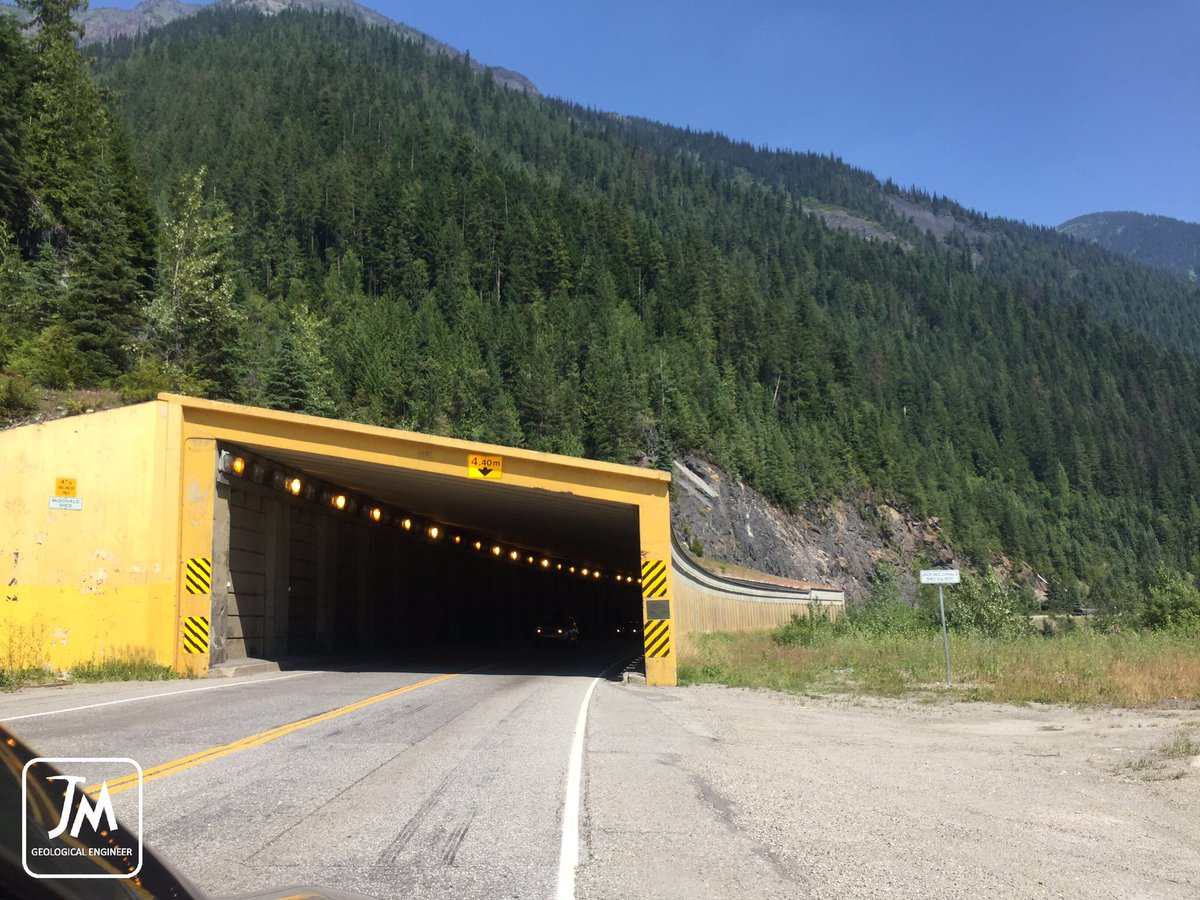bridge: (1, 387, 850, 698)
